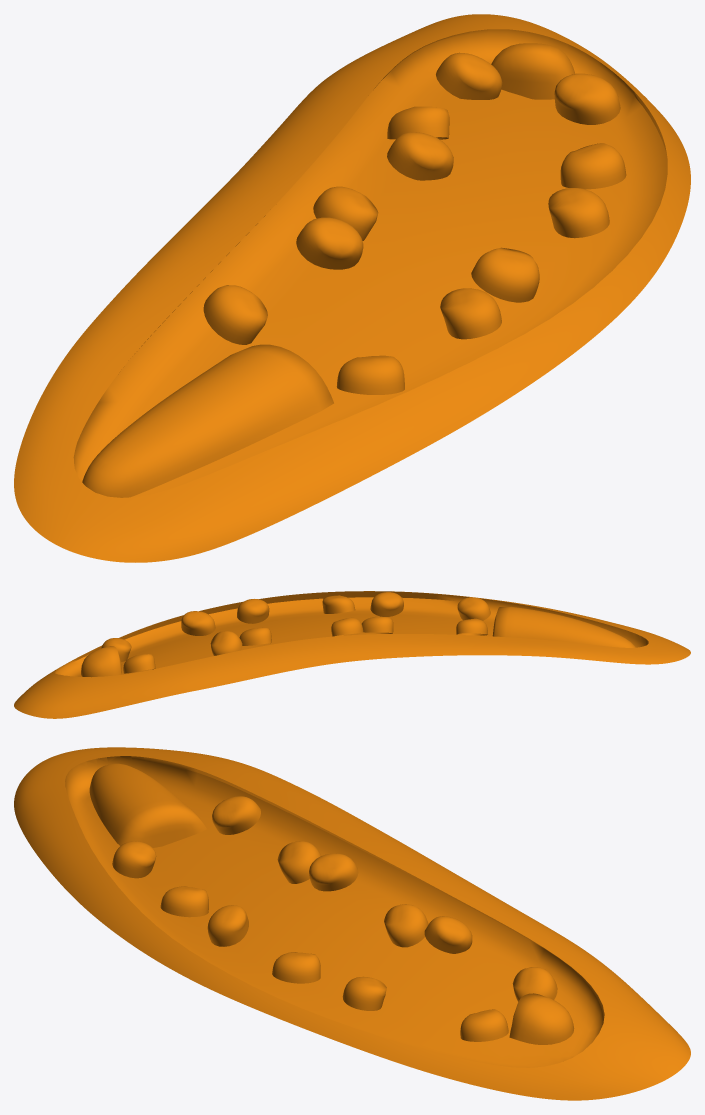
File: cuban_top_cavity_diamond.glb
3 renders of one model, top to bottom at view 1: azimuth 30°, elevation 25°; view 2: azimuth 150°, elevation 25°; view 3: azimuth 270°, elevation 25°, orthographic. The views are drawn at different scales.
Parts seen in each view (by area): view 1: top_flat.001; view 2: top_flat.001; view 3: top_flat.001.
Boxes of the visible parts, x1,y1,x2,y2 form: top_flat.001: (14, 14, 690, 562); top_flat.001: (14, 591, 690, 718); top_flat.001: (14, 747, 690, 1100).
Bounding box in the file's own units: 0.1053 × 0.013 × 0.0921.
